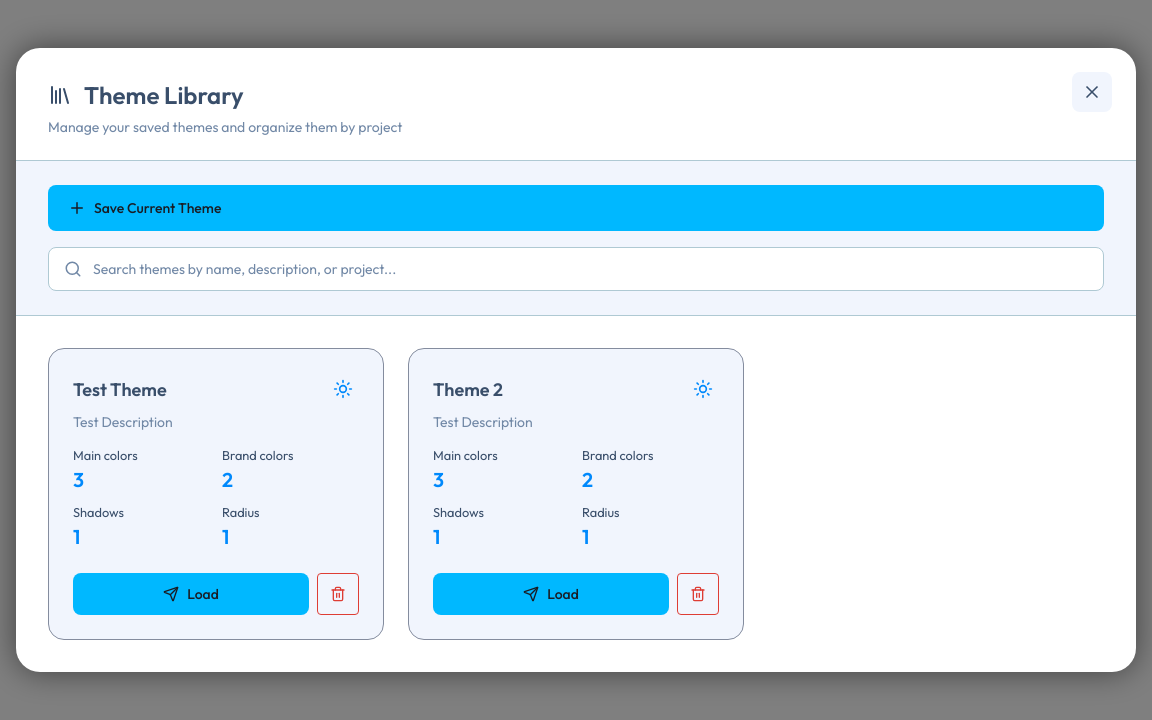
it: LibraryModal Component › Functionality › closes save dialog after saving
// Open dialog
Click the button "Save Current Theme": (158, 208) [48,185,1104,231]
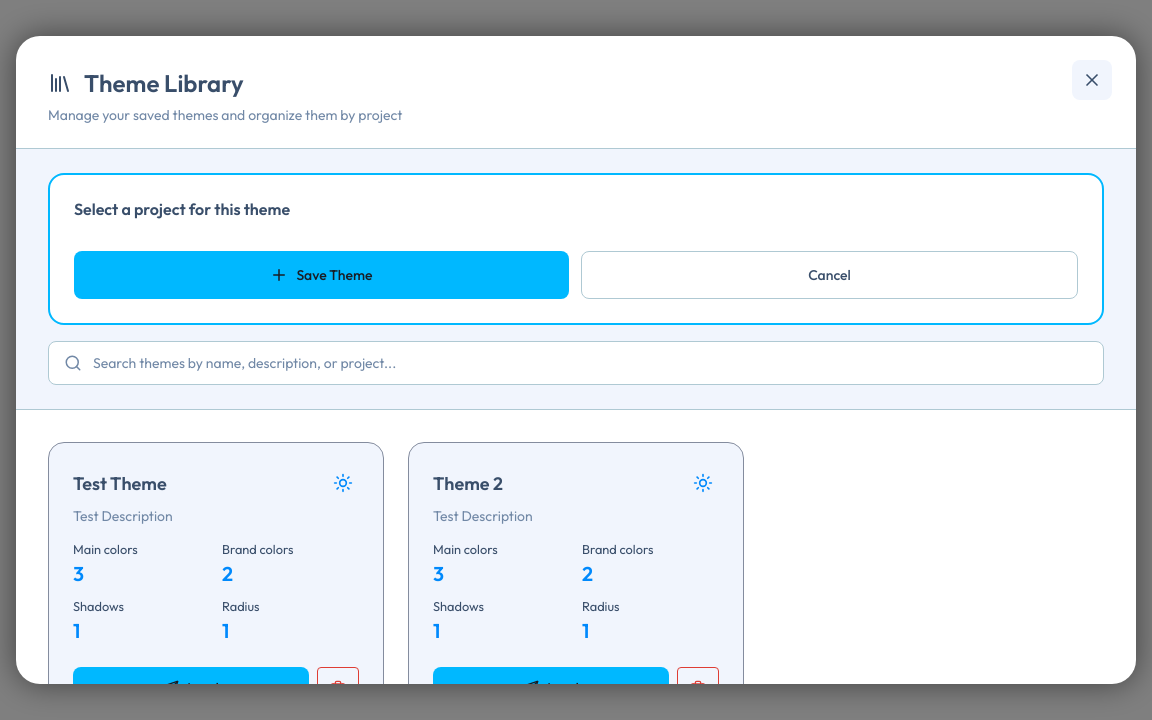
// Confirm save
Click the button "Save Theme": (322, 275) [74,251,569,299]
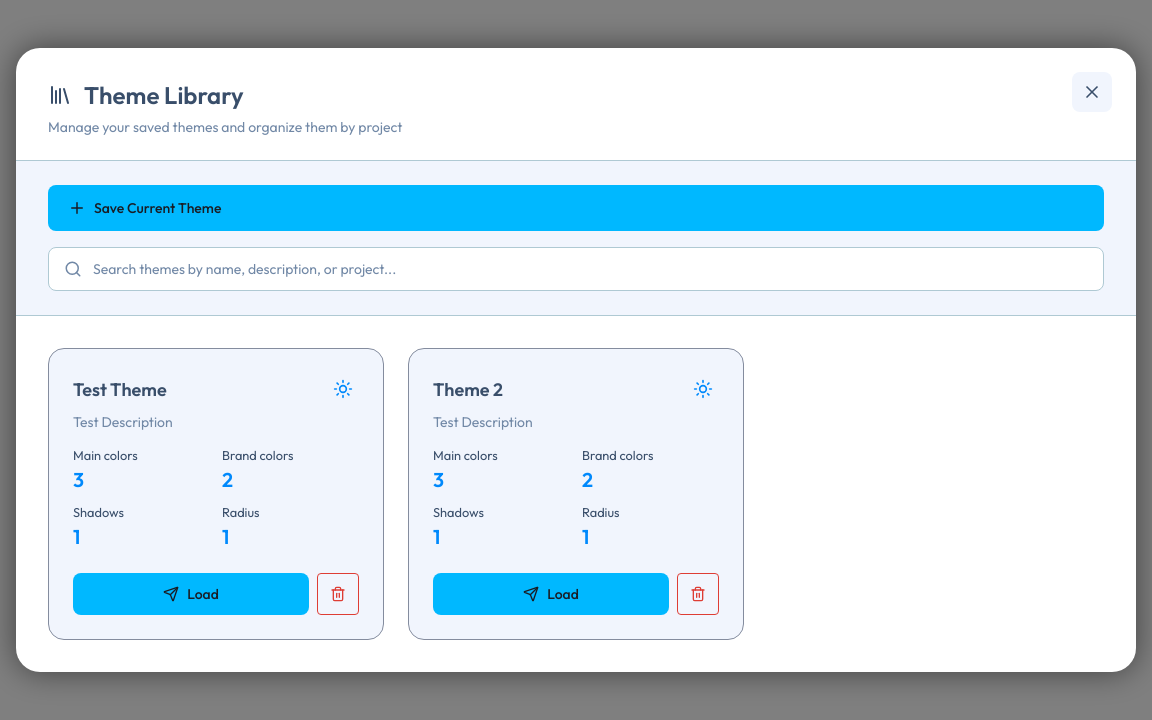
expect the text "Select a project for this theme" is gone: met
expect the text "Save Current Theme" is shown: met, box [94,199,221,217]
